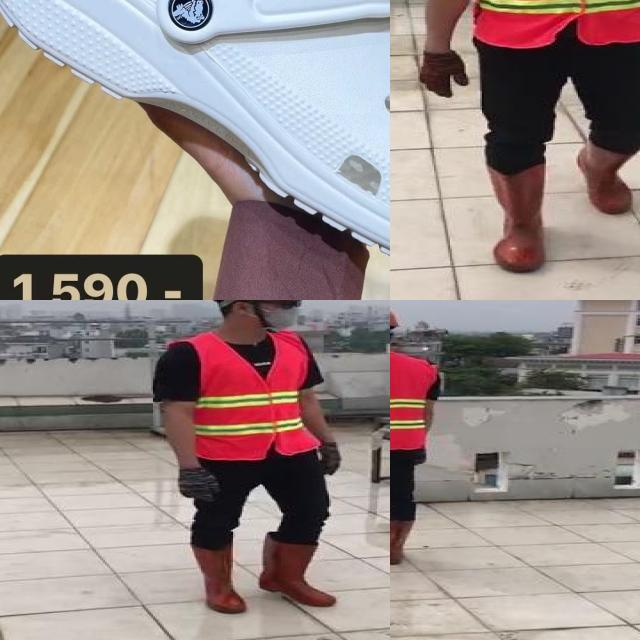Sandals: (0, 0, 390, 297)
boots: (486, 167, 550, 272), (258, 533, 340, 607), (576, 139, 635, 215), (192, 543, 247, 612), (390, 521, 414, 564)
face_mask: (263, 300, 305, 331)
glasses: (267, 300, 306, 312)
hand_glove: (418, 51, 468, 97), (176, 468, 219, 500), (316, 443, 342, 474), (416, 448, 428, 468)
person: (145, 300, 369, 615), (409, 0, 640, 278), (390, 301, 444, 564)
vest: (185, 332, 317, 459), (471, 0, 640, 47), (390, 353, 433, 447)
